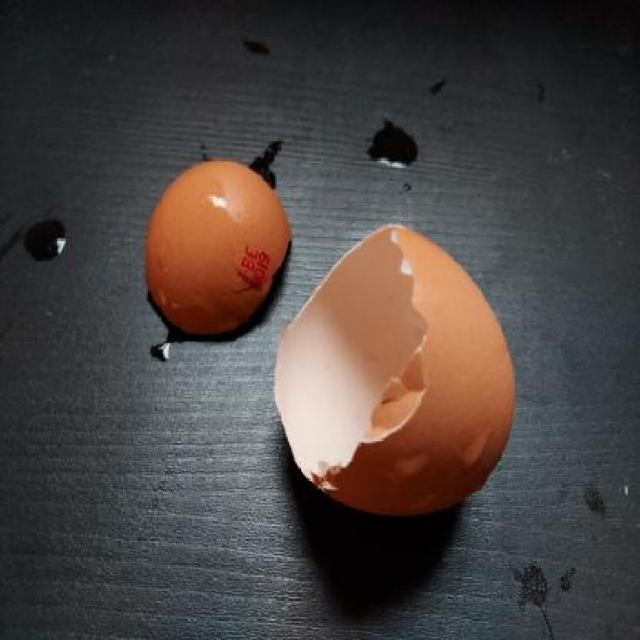biodegradable: (272, 225, 520, 518), (144, 160, 294, 348)
